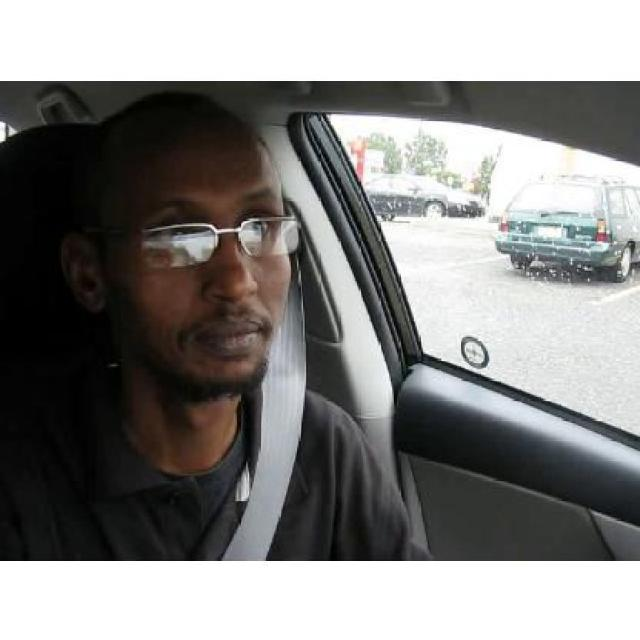attentif: (56, 88, 292, 398)
